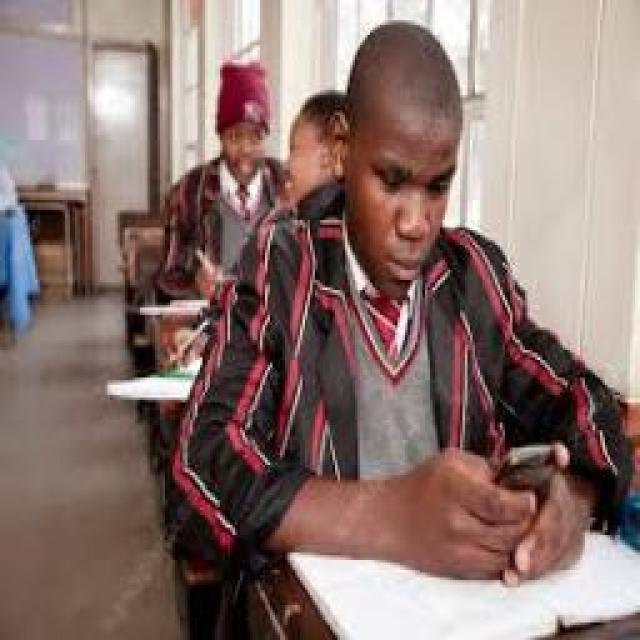phone: (178, 18, 632, 582)
